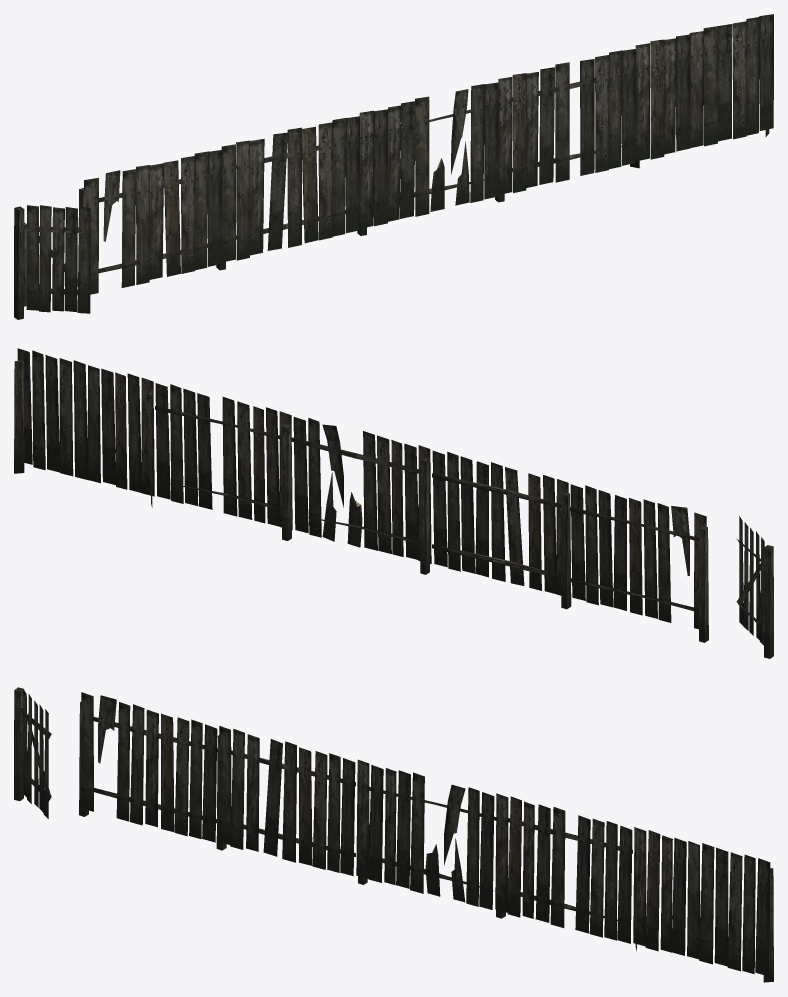
The model's file is wood walls.FBX.
The picture shows the model from 3 angles, top to bottom: view 1: azimuth 30°, elevation 25°; view 2: azimuth 150°, elevation 25°; view 3: azimuth 330°, elevation 25°; orthographic projection.
Visible parts, largest first — view 1: Hi_wood_fence_01, Hi_wood_fence_04, Hi_wood_fence_02, Hi_wood_fence_03, Hi_wood_fence_05, Hi_wood_k, Hi_wood_STOLB; view 2: Hi_wood_fence_01, Hi_wood_fence_04, Hi_wood_fence_02, Hi_wood_fence_05, Hi_wood_fence_03, Hi_wood_k, Hi_wood_STOLB; view 3: Hi_wood_fence_01, Hi_wood_fence_04, Hi_wood_fence_02, Hi_wood_fence_05, Hi_wood_fence_03, Hi_wood_k, Hi_wood_STOLB.
Part boxes in pixels (x1=…): Hi_wood_fence_01: x1=630, y1=14, x2=773, y2=168; Hi_wood_fence_04: x1=216, y1=116, x2=359, y2=270; Hi_wood_fence_02: x1=495, y1=49, x2=636, y2=202; Hi_wood_fence_03: x1=357, y1=82, x2=500, y2=235; Hi_wood_fence_05: x1=79, y1=150, x2=222, y2=294; Hi_wood_k: x1=26, y1=205, x2=90, y2=313; Hi_wood_STOLB: x1=14, y1=206, x2=26, y2=319; Hi_wood_fence_01: x1=14, y1=348, x2=154, y2=507; Hi_wood_fence_04: x1=432, y1=450, x2=571, y2=609; Hi_wood_fence_02: x1=155, y1=383, x2=292, y2=540; Hi_wood_fence_05: x1=570, y1=484, x2=708, y2=642; Hi_wood_fence_03: x1=291, y1=417, x2=431, y2=574; Hi_wood_k: x1=736, y1=516, x2=764, y2=645; Hi_wood_STOLB: x1=762, y1=545, x2=773, y2=658; Hi_wood_fence_01: x1=633, y1=827, x2=773, y2=982; Hi_wood_fence_04: x1=216, y1=726, x2=355, y2=876; Hi_wood_fence_02: x1=495, y1=793, x2=632, y2=943; Hi_wood_fence_05: x1=79, y1=692, x2=217, y2=842; Hi_wood_fence_03: x1=356, y1=759, x2=497, y2=909; Hi_wood_k: x1=22, y1=689, x2=51, y2=818; Hi_wood_STOLB: x1=14, y1=687, x2=24, y2=800.
Bounding box in the file's own units: 1644 × 262 × 87.4.
